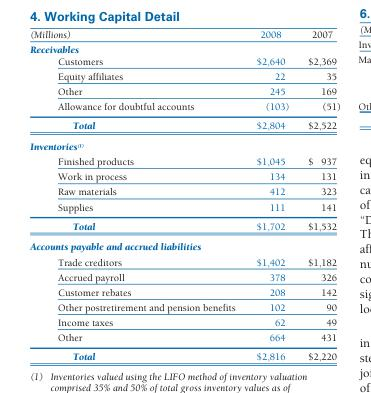table: (29, 28, 339, 361)
table column: (29, 28, 245, 361), (245, 28, 297, 361), (297, 28, 339, 361)
table column header: (29, 28, 339, 41)
table projected row header: (29, 135, 339, 153), (29, 236, 339, 254), (29, 41, 339, 55)
table row: (29, 115, 339, 135), (29, 216, 339, 236), (29, 135, 339, 153), (29, 236, 339, 254), (29, 98, 339, 115), (29, 199, 339, 216), (29, 329, 339, 346), (29, 183, 339, 199), (29, 68, 339, 83), (29, 83, 339, 98), (29, 153, 339, 168), (29, 168, 339, 183), (29, 254, 339, 269), (29, 269, 339, 284), (29, 284, 339, 299), (29, 299, 339, 314), (29, 314, 339, 329), (29, 346, 339, 361), (29, 41, 339, 55), (29, 28, 339, 41), (29, 55, 339, 68)
